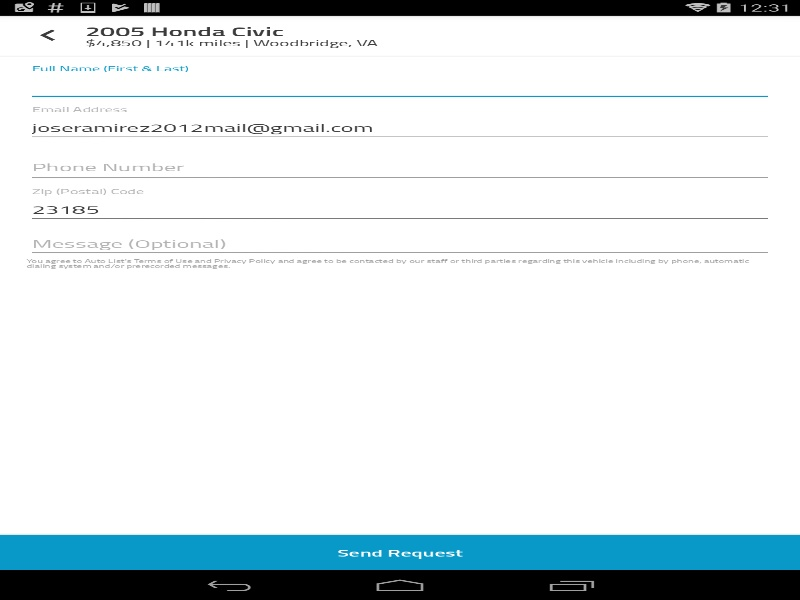Button: (0, 535, 800, 570), (10, 15, 85, 55)
Input: (26, 72, 773, 101), (26, 113, 773, 142), (26, 154, 773, 183), (26, 195, 773, 224), (26, 229, 773, 258)
